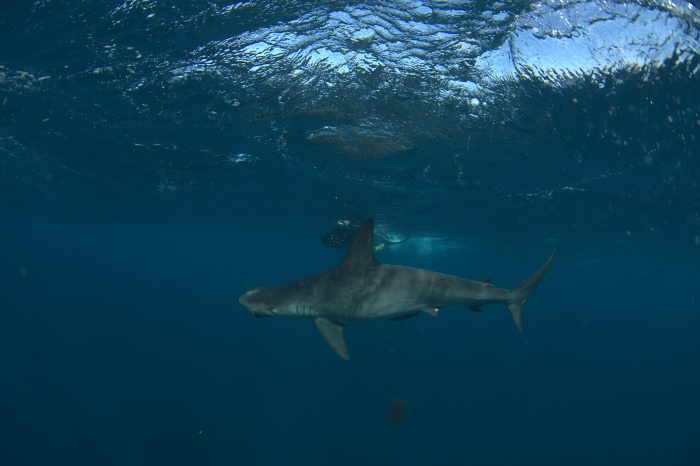Hammer: (192, 206, 596, 365)
